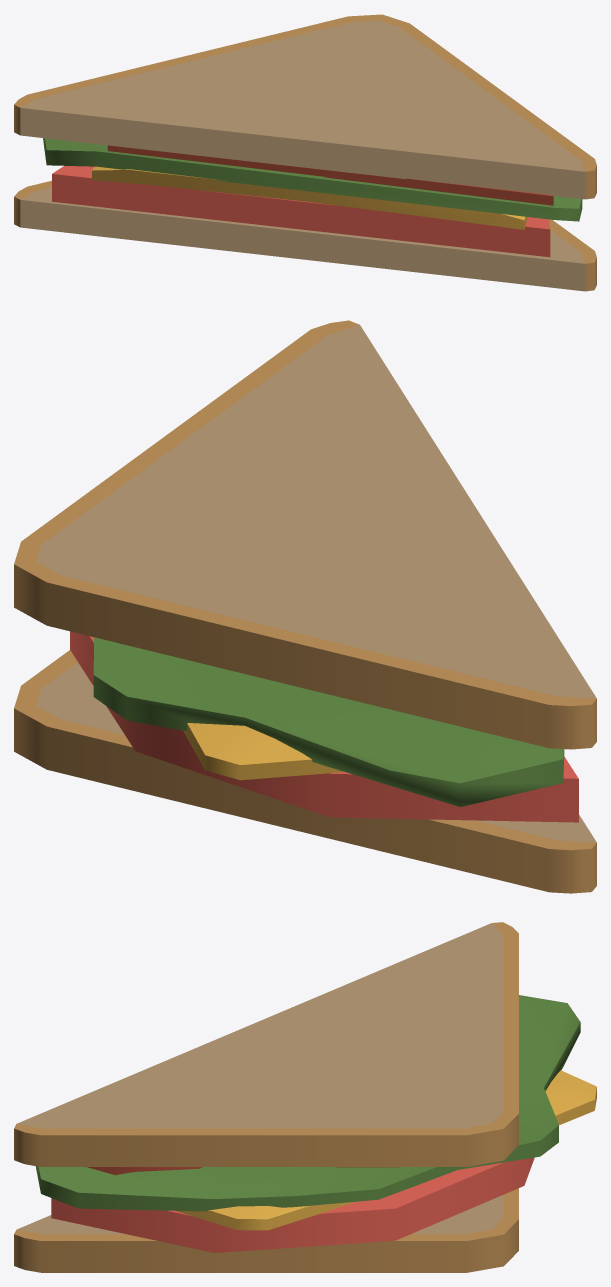
Rendered from Sandwich_01_Triangle.fbx.
3 renders of one model, top to bottom at view 1: azimuth 30°, elevation 25°; view 2: azimuth 150°, elevation 25°; view 3: azimuth 270°, elevation 25°, orthographic. The views are drawn at different scales.
Parts seen in each view (by area): view 1: Sandwich_01_Triangle; view 2: Sandwich_01_Triangle; view 3: Sandwich_01_Triangle.
Boxes of the visible parts, x1=… form: Sandwich_01_Triangle: x1=14, y1=14, x2=596, y2=291; Sandwich_01_Triangle: x1=14, y1=320, x2=596, y2=893; Sandwich_01_Triangle: x1=14, y1=922, x2=596, y2=1272.
Bounding box in the file's own units: 0.1442 × 0.0392 × 0.1507.
